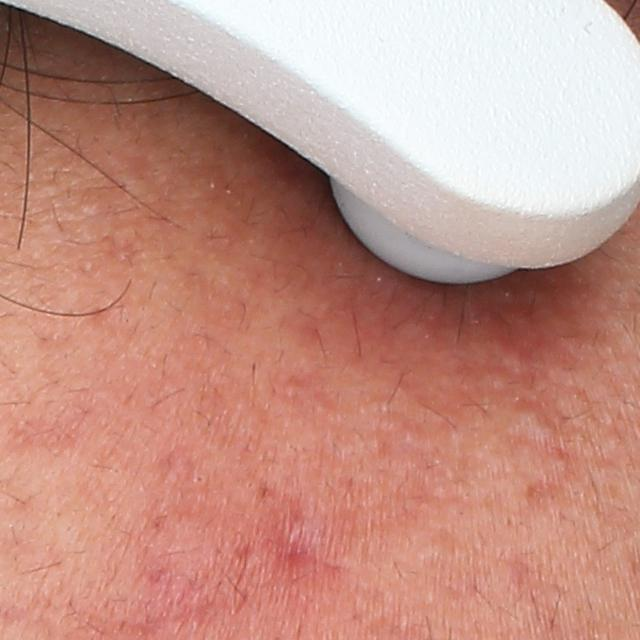comedo: (192, 471, 211, 488)
